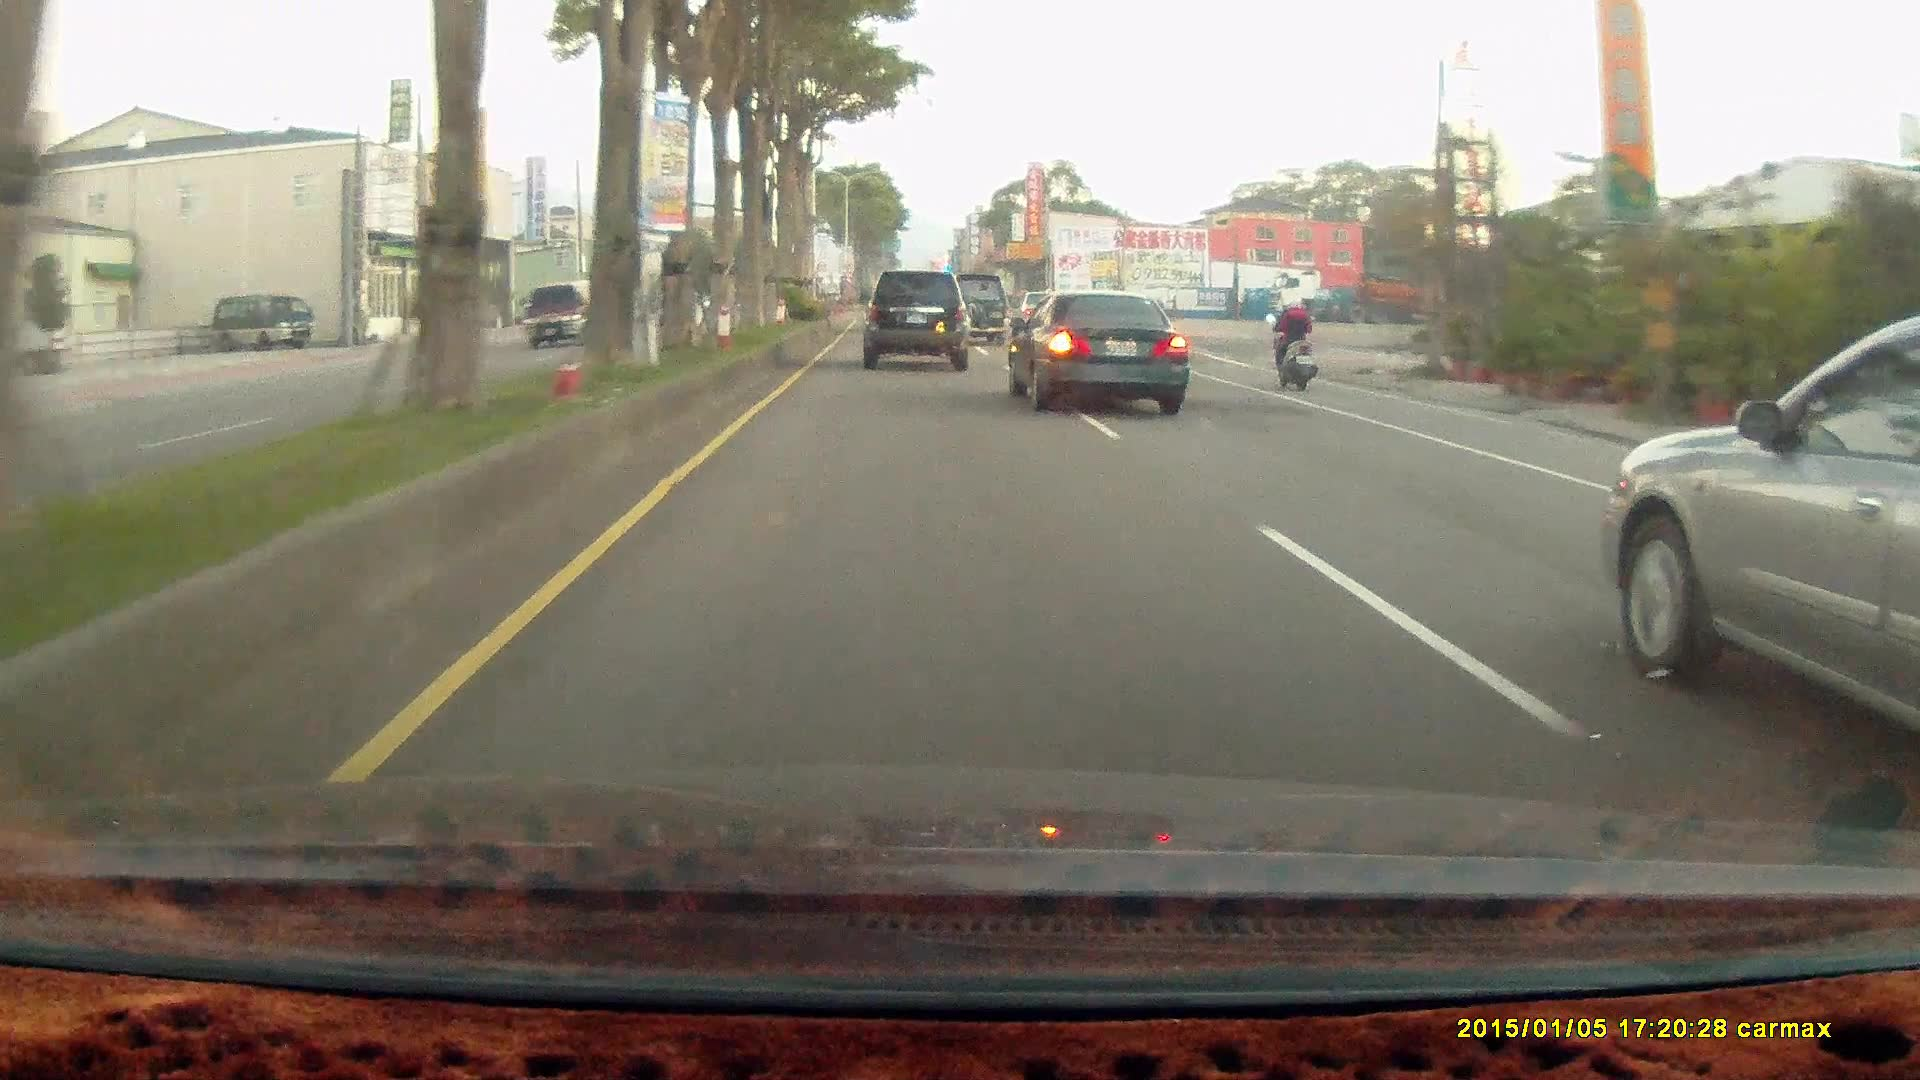rider: (1259, 284, 1329, 398), (1266, 289, 1320, 391)
vehicle: (1599, 308, 1919, 761), (1007, 288, 1193, 412), (1006, 289, 1188, 415), (1274, 265, 1514, 322), (861, 268, 974, 369), (858, 270, 967, 369), (211, 294, 312, 351), (210, 294, 312, 349), (521, 284, 597, 350), (945, 272, 1012, 347)
